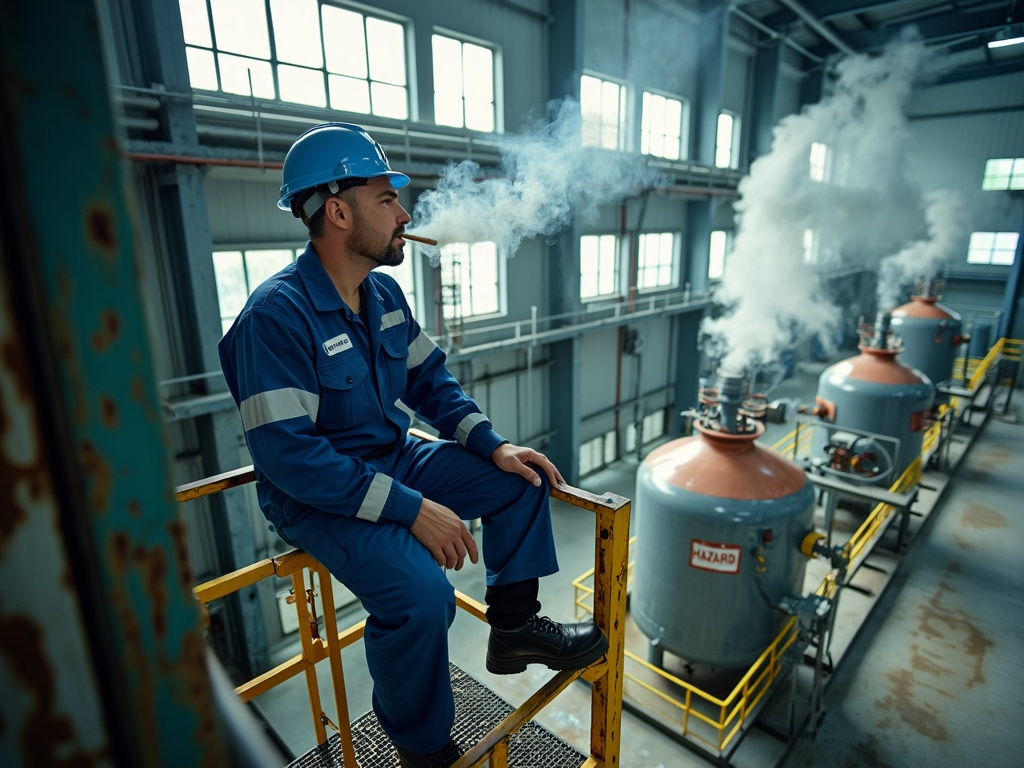smoking: (389, 225, 451, 253)
